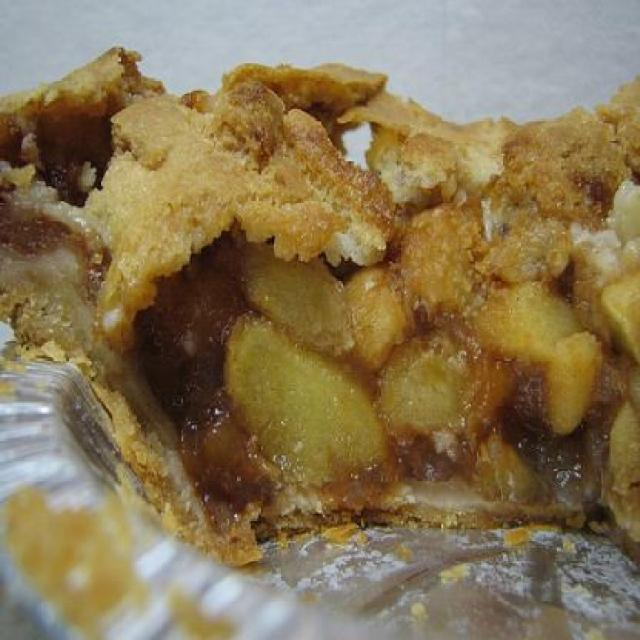Apple: (14, 81, 636, 544)
